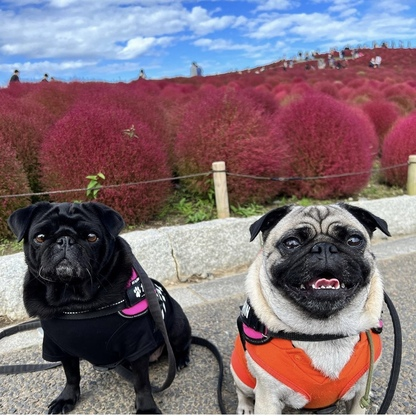Pug: (3, 195, 198, 416), (223, 197, 396, 416)
